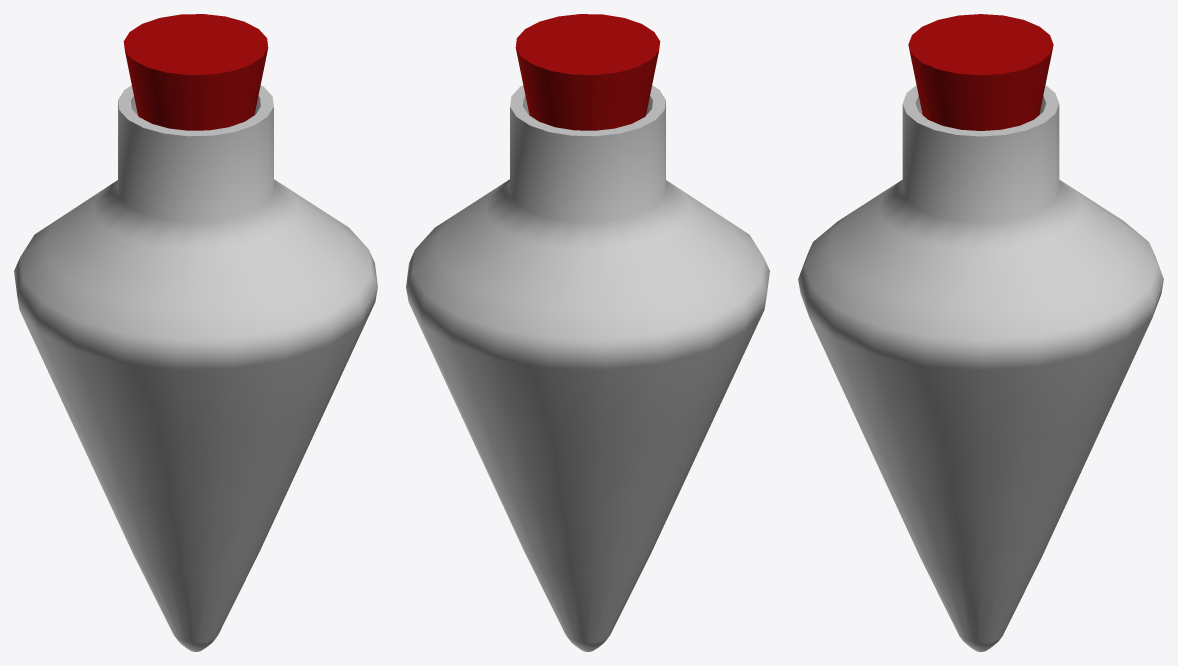
The model's file is Potion_1.fbx.
3 views of the same model, side by side, from view 1: azimuth 30°, elevation 25°; view 2: azimuth 150°, elevation 25°; view 3: azimuth 270°, elevation 25° (orthographic).
Parts seen in each view (by area): view 1: Potion_1; view 2: Potion_1; view 3: Potion_1.
Boxes of the visible parts, <box> form: Potion_1: <box>14,14,377,651</box>; Potion_1: <box>406,14,769,651</box>; Potion_1: <box>798,14,1163,651</box>.
Size of the model in its own units: 20.76 by 38.01 by 20.76.
